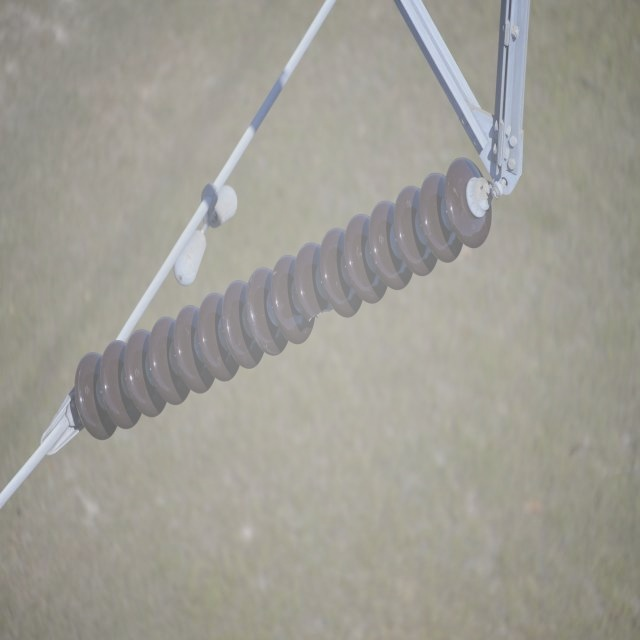broken: (307, 307, 330, 324)
insulator: (73, 158, 495, 442)
